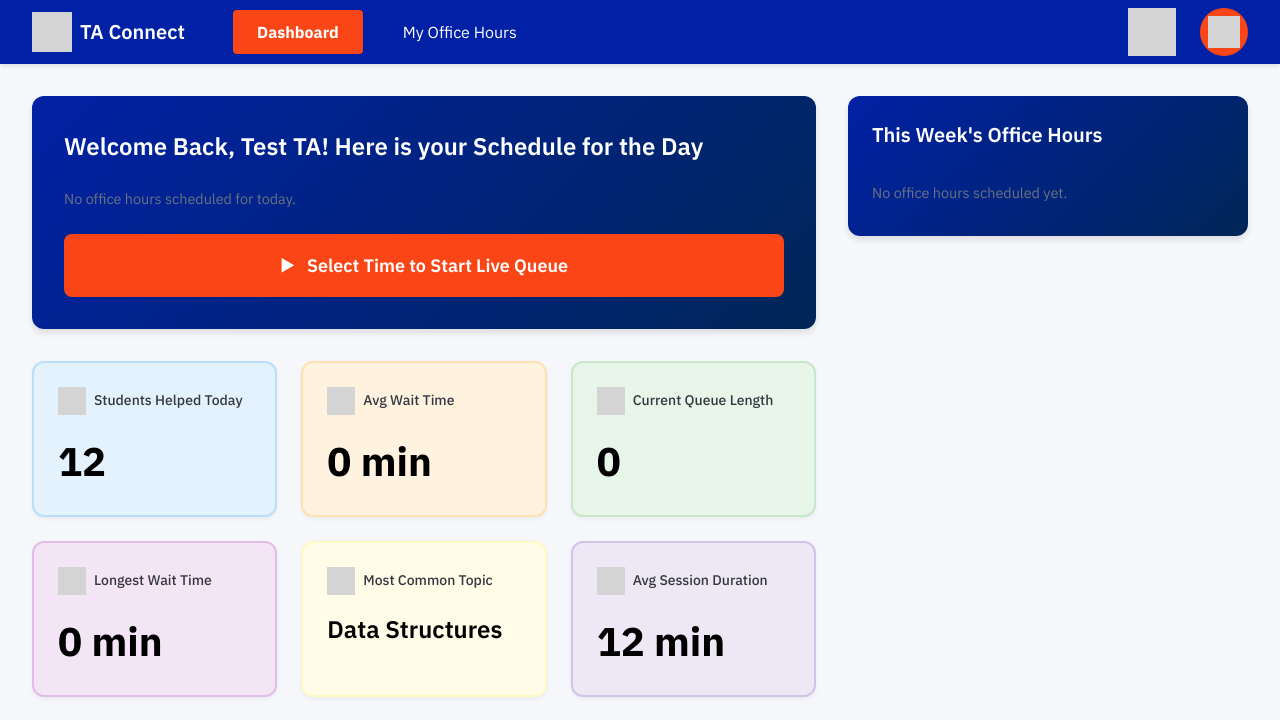
Scenario: TADashboard — My Office Hours tab › switches to My Office Hours tab when clicked
Click the button "My Office Hours": (460, 32) left=379, top=10, right=541, bottom=54
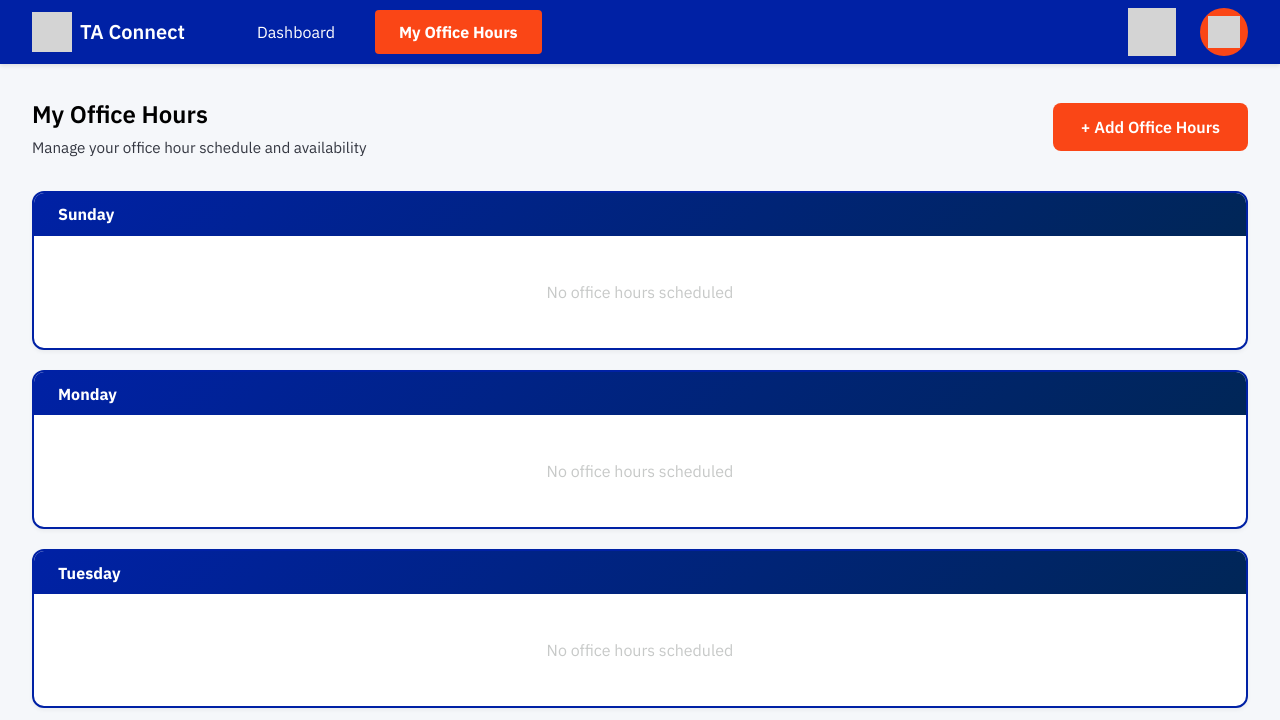
Expected: the text "Manage your office hour schedule and availability" is shown, left=32, top=136, right=367, bottom=159
